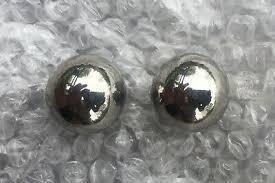steelball: (43, 52, 126, 133), (148, 50, 230, 131)
